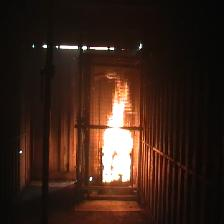fire: (99, 93, 138, 192)
